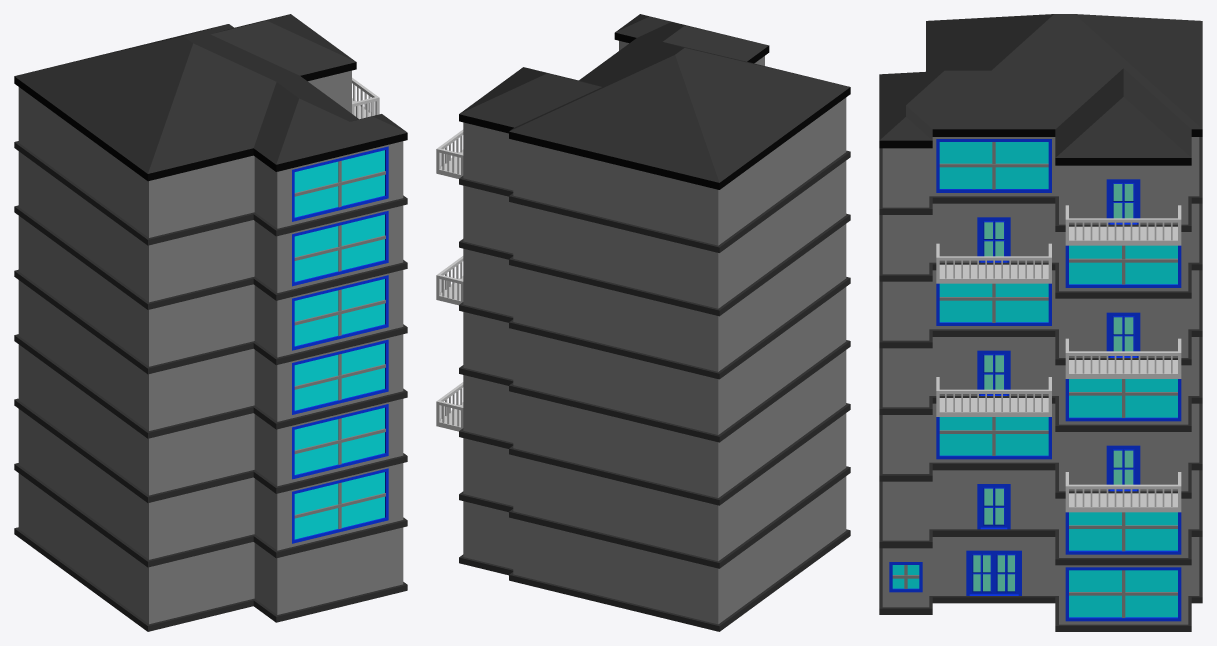
The model's file is building_001.fbx.
3 views of the same model, side by side, from view 1: azimuth 30°, elevation 25°; view 2: azimuth 150°, elevation 25°; view 3: azimuth 270°, elevation 25° (orthographic). The views are drawn at different scales.
Parts seen in each view (by area): view 1: building_001; view 2: building_001; view 3: building_001.
Boxes of the visible parts, box(x1,y1,x2,y2) form: building_001: box(14, 14, 407, 631); building_001: box(436, 14, 850, 631); building_001: box(879, 14, 1202, 631).
Bounding box in the file's own units: 1070 × 1767 × 968.
